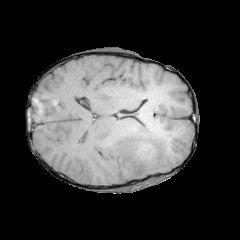glioma: (105, 124, 169, 177)
